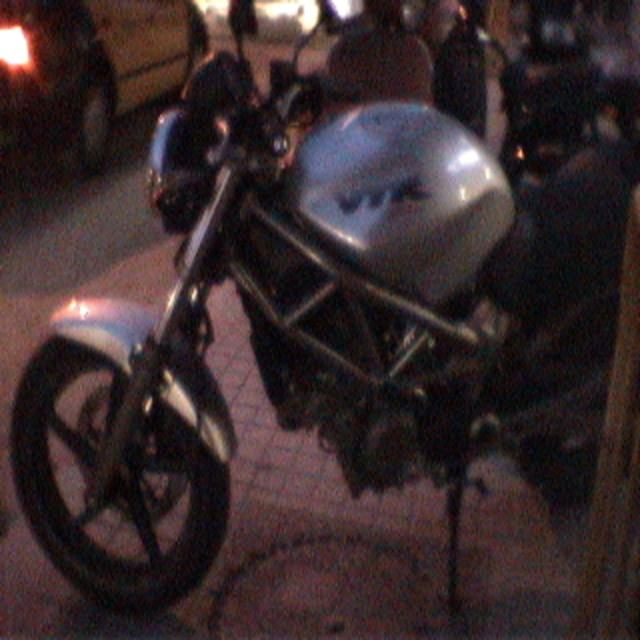Motorbikes: (12, 82, 625, 612)
